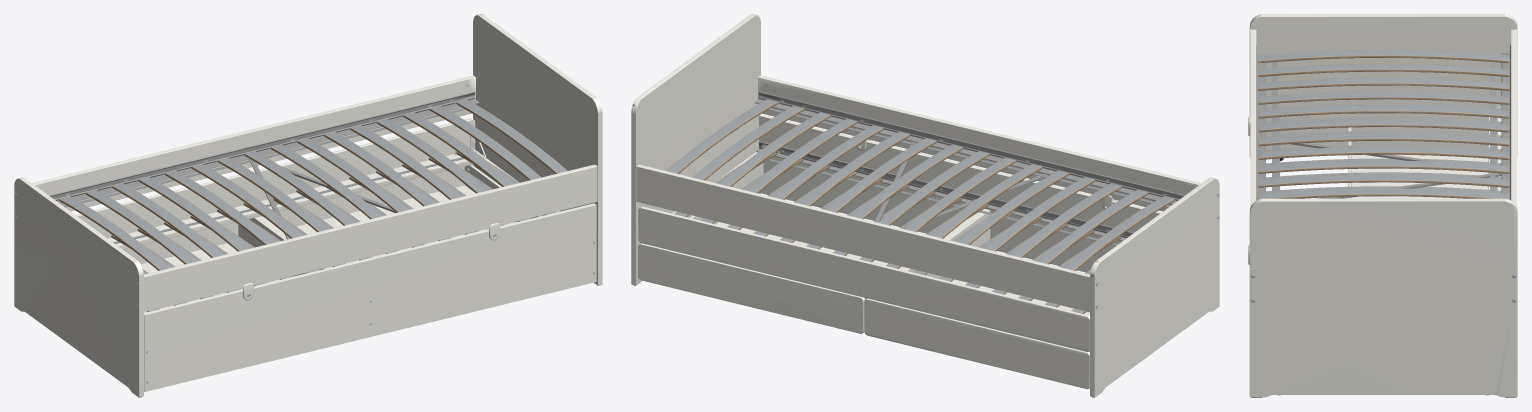
Rendered from slakt_rama_ozka_z_ozkiem_dolnym_pojem_89227731.glb.
3 renders of one model, left to right at view 1: azimuth 30°, elevation 25°; view 2: azimuth 150°, elevation 25°; view 3: azimuth 270°, elevation 25°, orthographic. The views are drawn at different scales.
Visible parts, largest first — view 1: slakt_rama_ozka_z_ozkiem_dolnym_pojem_89227731; view 2: slakt_rama_ozka_z_ozkiem_dolnym_pojem_89227731; view 3: slakt_rama_ozka_z_ozkiem_dolnym_pojem_89227731.
Part boxes in pixels (x1,y1,x2,y2): slakt_rama_ozka_z_ozkiem_dolnym_pojem_89227731: (14, 14, 602, 397); slakt_rama_ozka_z_ozkiem_dolnym_pojem_89227731: (631, 14, 1219, 397); slakt_rama_ozka_z_ozkiem_dolnym_pojem_89227731: (1248, 14, 1517, 397).
Size of the model in its own units: 2.06 by 0.7802 by 0.9647.
2 materials, 1 textured.
